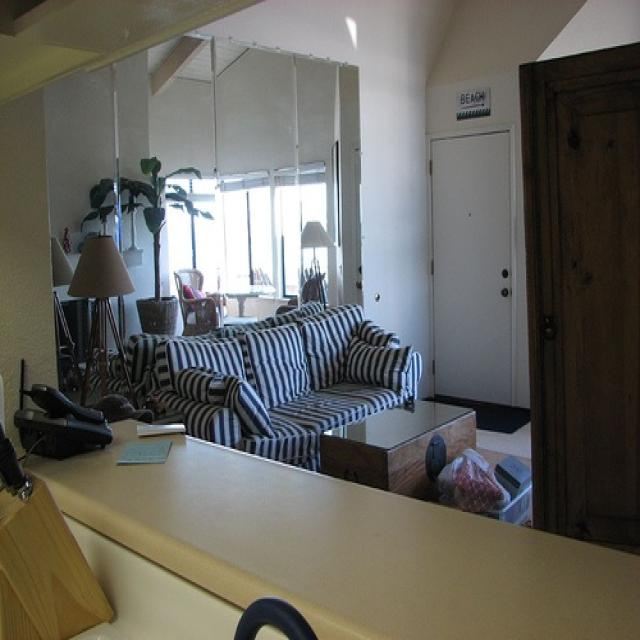chair: (170, 271, 229, 336)
pottedplant: (83, 153, 217, 335)
sofa: (152, 301, 423, 474)
